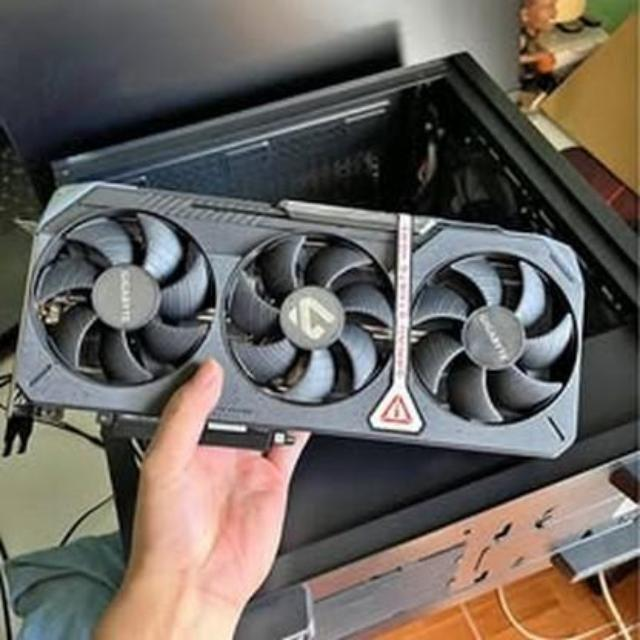GPU: (4, 170, 582, 464)
